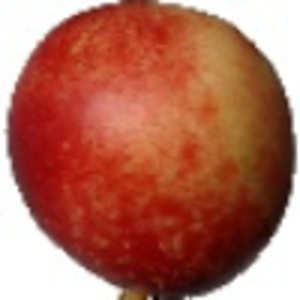nectarina: (5, 1, 298, 300)
